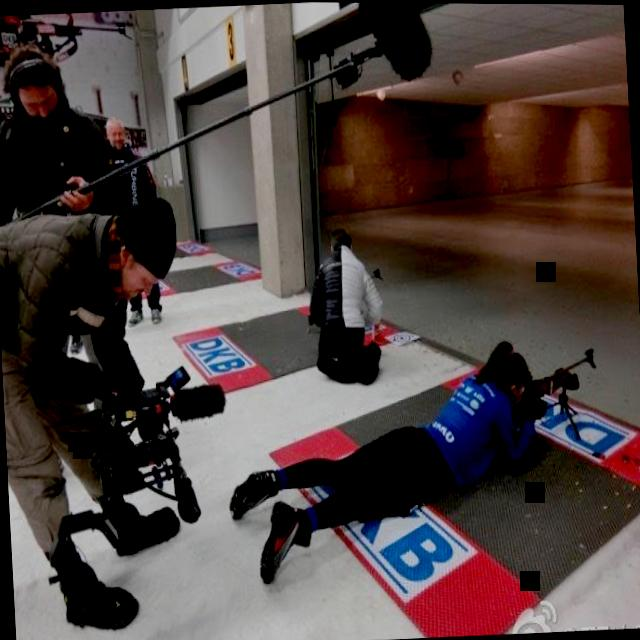Fall-Detected: (214, 325, 564, 590)
